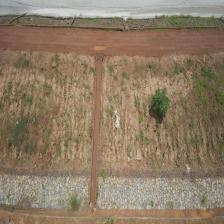rock_toe: (96, 170, 224, 210), (0, 170, 89, 209)
slope_drain: (89, 54, 103, 207)
